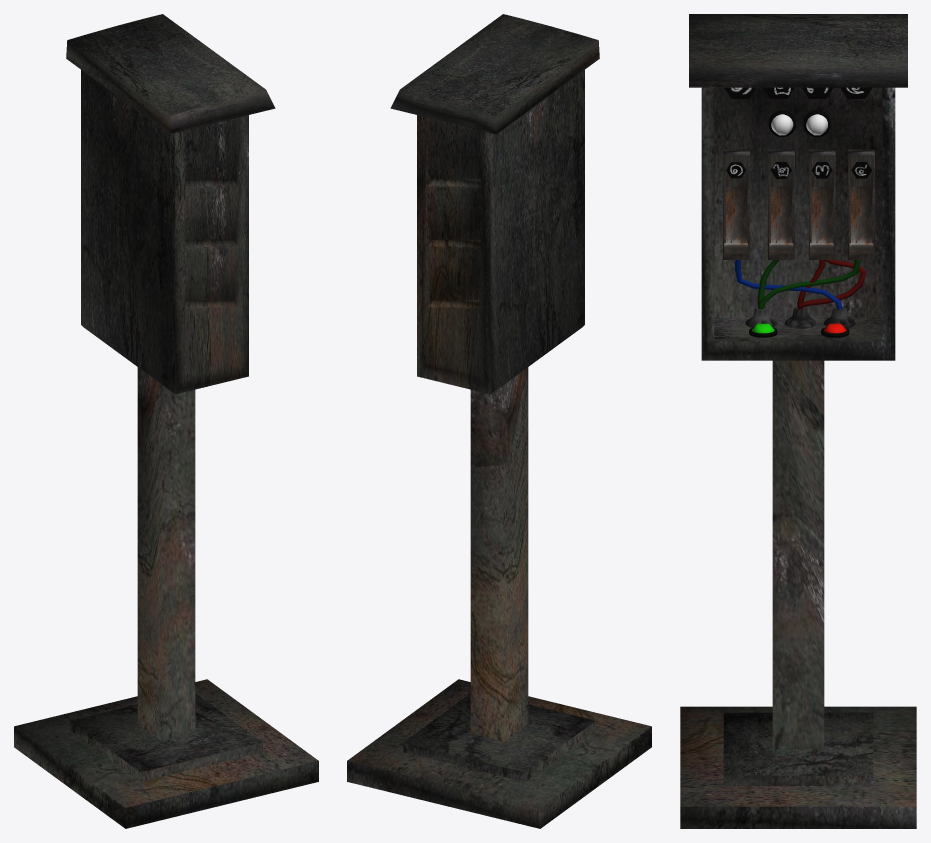
The model's file is ReElectirc.fbx.
The picture shows the model from 3 angles, left to right: view 1: azimuth 30°, elevation 25°; view 2: azimuth 150°, elevation 25°; view 3: azimuth 270°, elevation 25°; orthographic projection. The views are drawn at different scales.
Parts seen in each view (by area): view 1: Cube.013; view 2: Cube.013; view 3: Cube.013, BézierCurve.003, Cube.007, Cube.004, Cube.002, Cube.003.
Boxes of the visible parts, x1,y1,x2,y2 form: Cube.013: (14, 14, 318, 828); Cube.013: (347, 14, 651, 828); Cube.013: (680, 14, 916, 828); BézierCurve.003: (735, 260, 866, 328); Cube.007: (723, 149, 749, 259); Cube.004: (848, 149, 874, 259); Cube.002: (809, 149, 835, 259); Cube.003: (768, 149, 794, 259).
Bounding box in the file's own units: 91.66 × 91.66 × 318.
11 materials, 5 textured.
